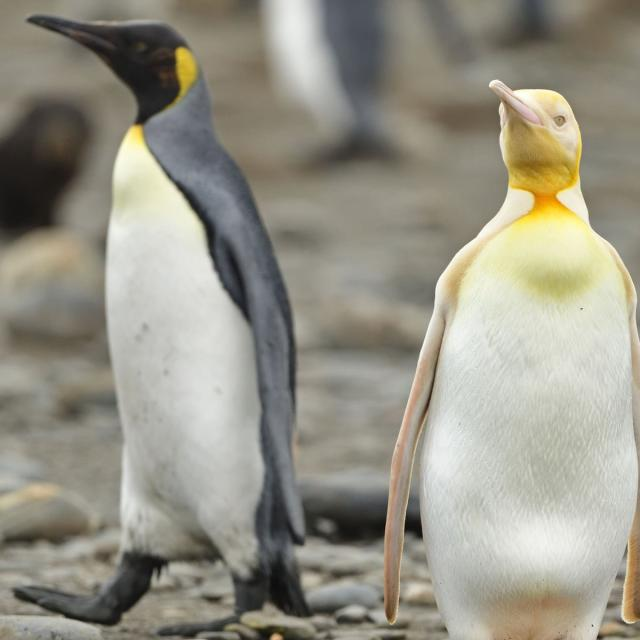penguin: (15, 15, 311, 625), (385, 81, 639, 639)
